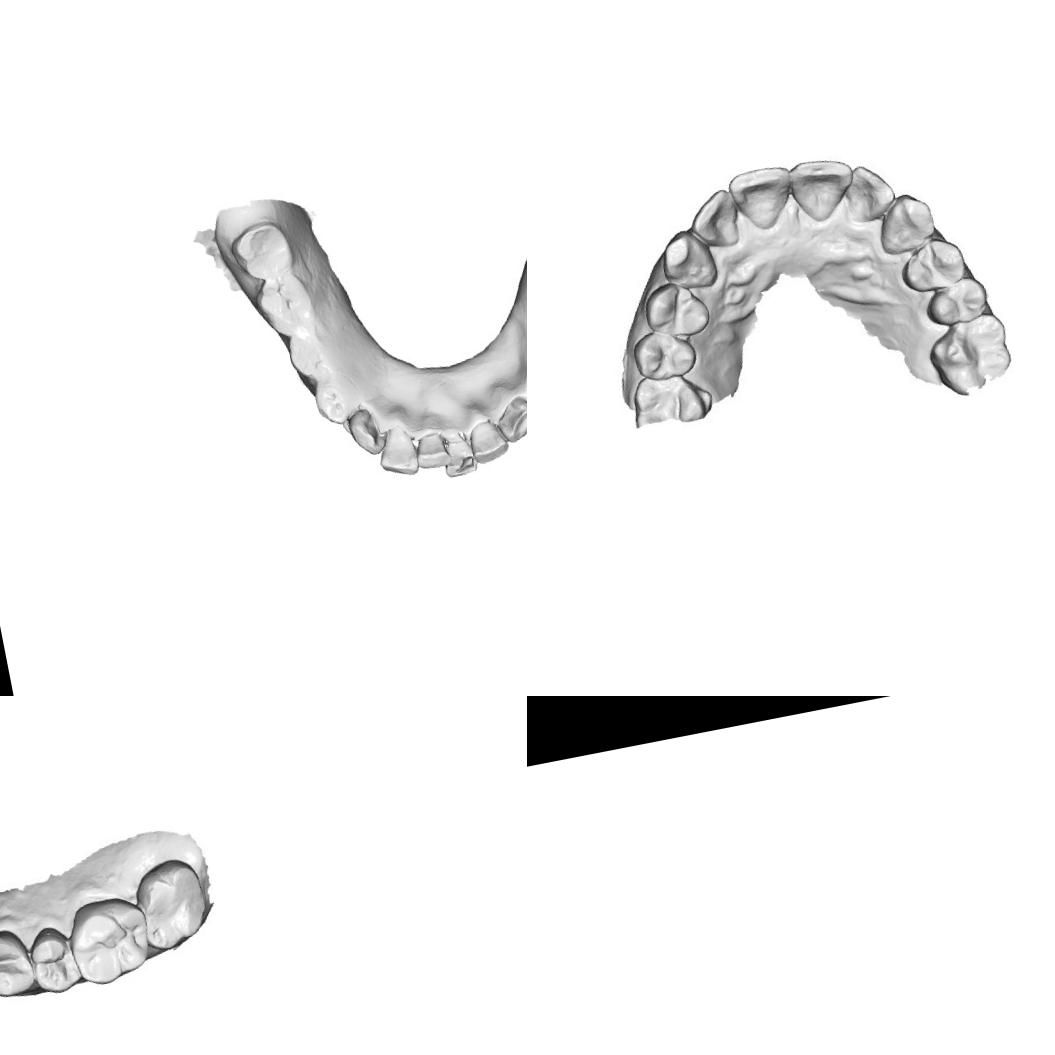canine: (653, 223, 722, 296), (871, 187, 940, 258), (340, 404, 388, 461), (490, 393, 527, 445)
incisor: (784, 150, 863, 226), (725, 160, 799, 236), (838, 158, 900, 226), (683, 185, 744, 254), (372, 419, 424, 482), (436, 422, 480, 482), (465, 416, 512, 466), (409, 428, 452, 474)
molar: (126, 851, 216, 958), (61, 890, 157, 990), (922, 310, 1017, 400), (249, 270, 322, 343), (224, 216, 298, 288)
premolar: (638, 274, 714, 344), (893, 231, 972, 298), (19, 920, 85, 999), (627, 324, 700, 386), (919, 272, 993, 331), (308, 370, 360, 429), (0, 924, 35, 1004), (283, 330, 334, 384)
